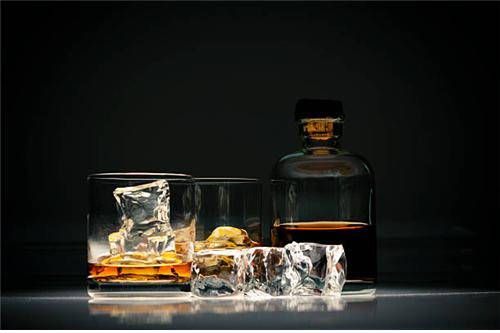alcohol: (272, 104, 377, 302), (85, 171, 192, 300), (192, 177, 261, 297)
